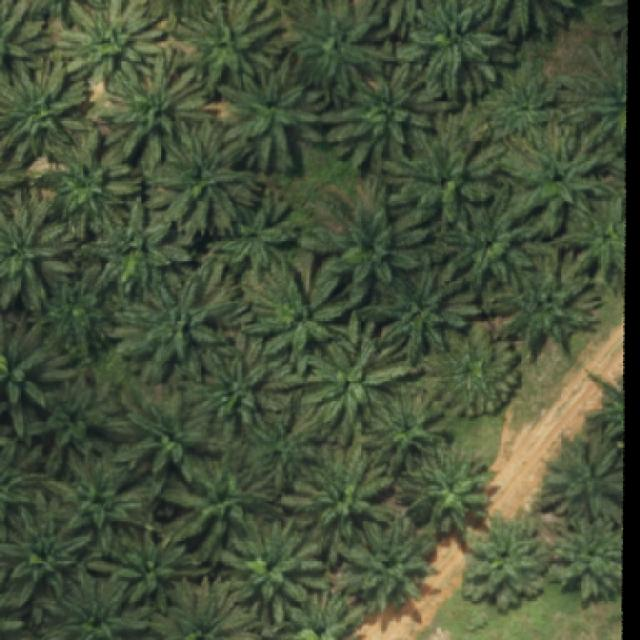Kelapa_Sawit: (112, 259, 250, 383), (380, 108, 505, 232), (316, 58, 453, 171), (499, 115, 619, 238), (357, 254, 481, 366), (300, 185, 431, 286), (147, 120, 261, 235), (42, 448, 158, 560), (213, 53, 319, 175), (117, 376, 223, 498), (300, 340, 422, 446), (101, 45, 208, 162), (34, 126, 141, 242), (245, 260, 366, 360), (78, 192, 192, 298), (292, 437, 400, 548), (164, 464, 281, 565), (221, 514, 328, 624), (86, 523, 212, 615), (435, 182, 540, 288), (488, 255, 600, 352), (338, 514, 440, 615), (0, 489, 92, 600), (59, 0, 166, 95), (398, 435, 500, 534), (27, 370, 121, 476), (422, 319, 522, 418), (461, 507, 552, 615), (192, 356, 296, 444), (364, 383, 448, 479), (238, 410, 324, 496), (35, 273, 117, 361), (219, 188, 296, 274), (489, 70, 560, 150)
